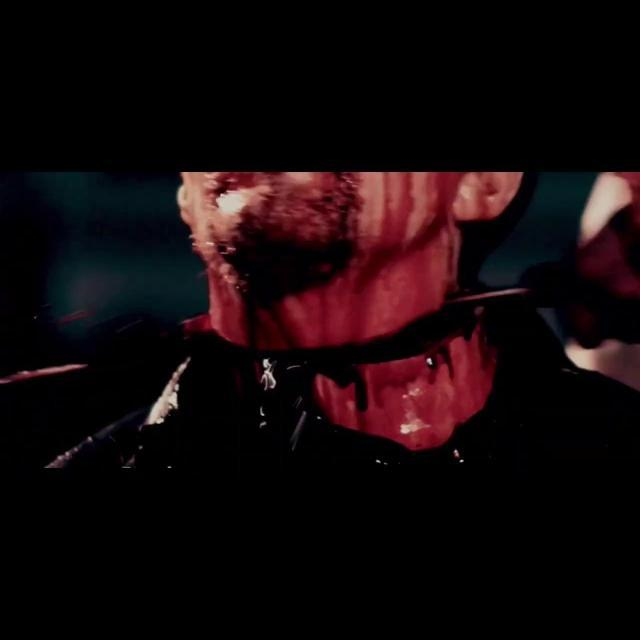blood: (178, 172, 496, 466), (46, 360, 190, 468), (0, 364, 88, 386), (56, 310, 88, 324), (89, 384, 108, 406)
